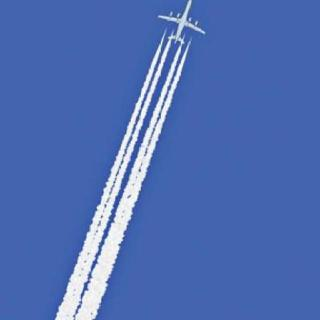Contrails: (52, 23, 197, 320)
